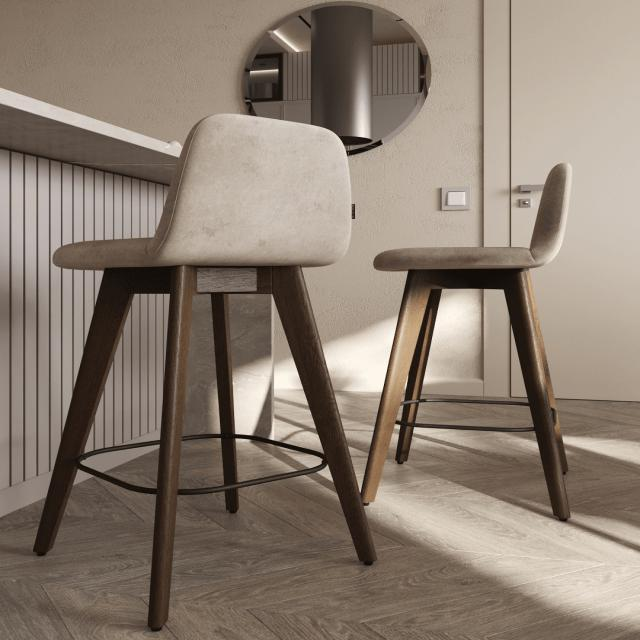chair: (31, 107, 385, 632), (360, 157, 584, 530), (49, 110, 372, 340), (360, 156, 574, 315)
